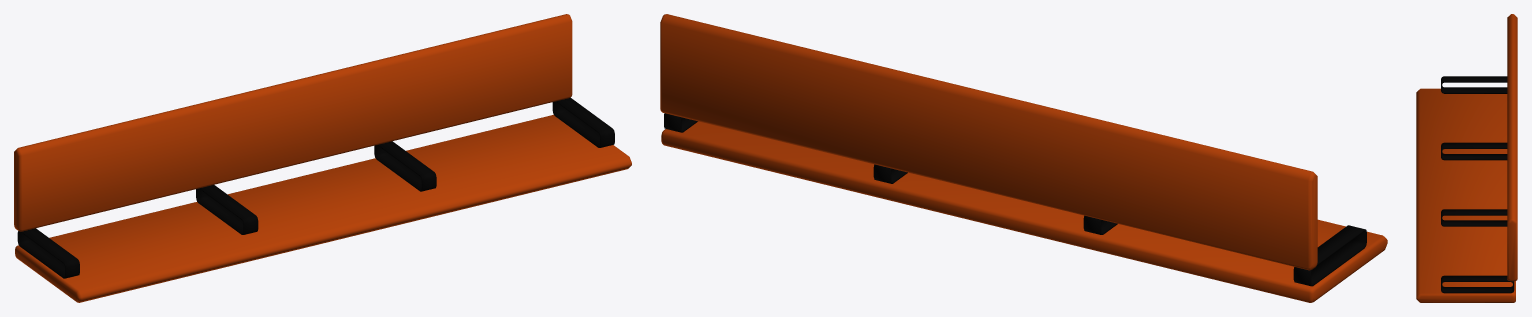
Rendered from bench.fbx.
3 views of the same model, side by side, from view 1: azimuth 30°, elevation 25°; view 2: azimuth 150°, elevation 25°; view 3: azimuth 270°, elevation 25° (orthographic). The views are drawn at different scales.
Visible parts, largest first — view 1: Cube.007; view 2: Cube.007; view 3: Cube.007.
Part boxes in pixels (bbox=[...]): Cube.007: bbox=[14, 14, 631, 302]; Cube.007: bbox=[660, 14, 1387, 302]; Cube.007: bbox=[1416, 14, 1517, 302].
Size of the model in its own units: 732 by 139 by 152.
